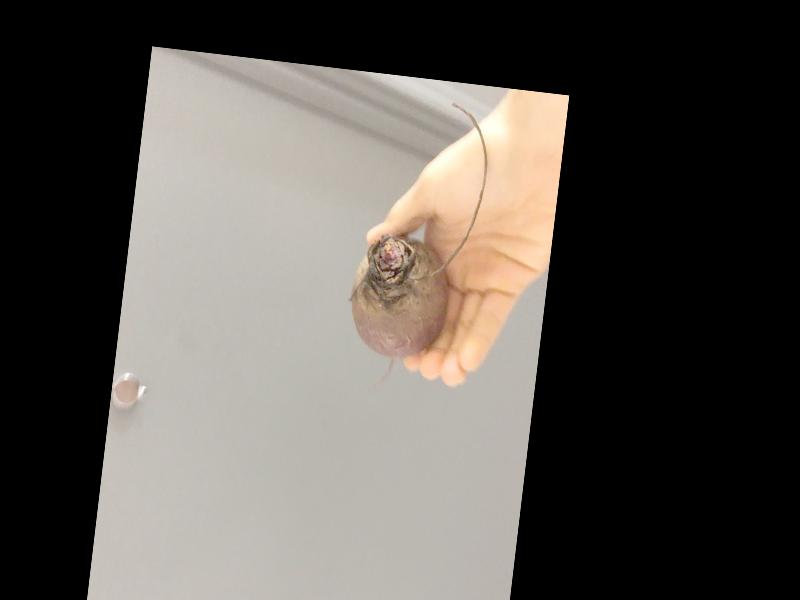Beet: (341, 95, 495, 396)
